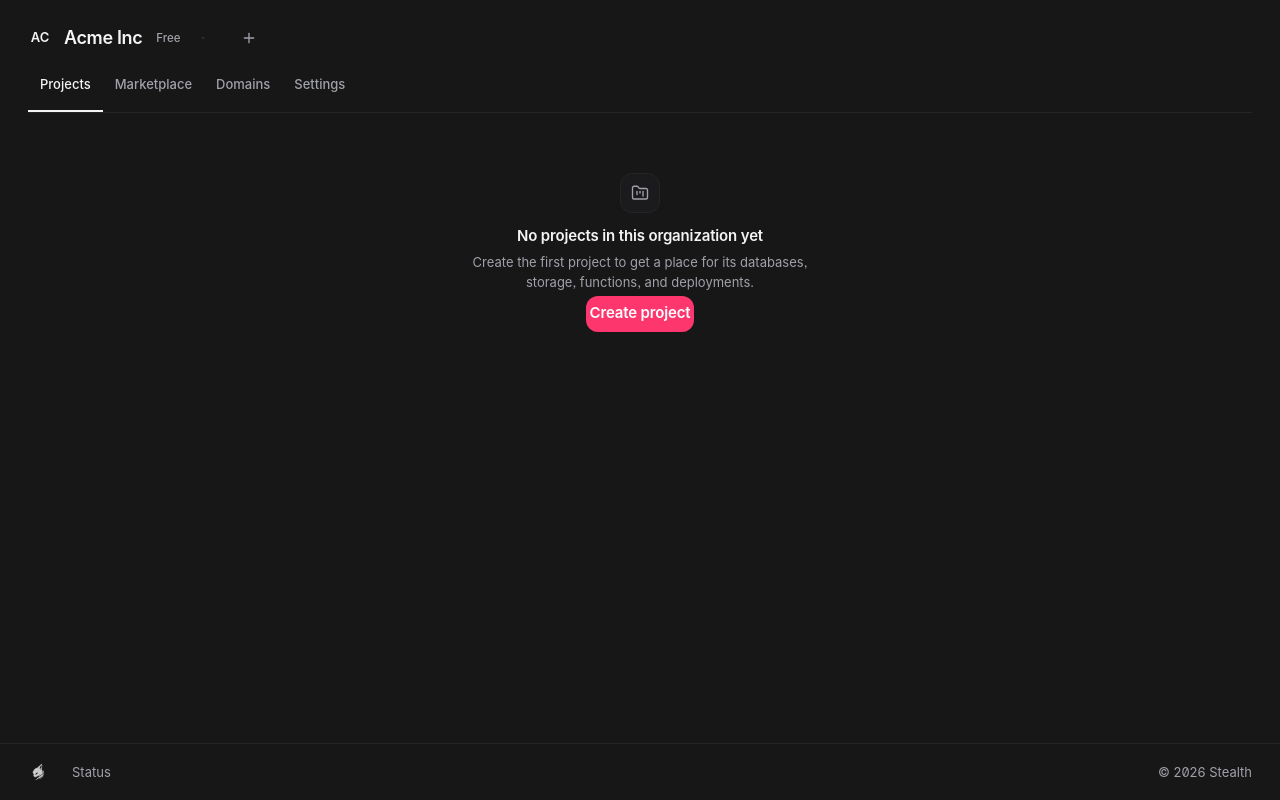
Test: UserHome › opens the create project dialog from the organization row
Click the button named "Create project" at (248, 38), box [236, 26, 260, 50]
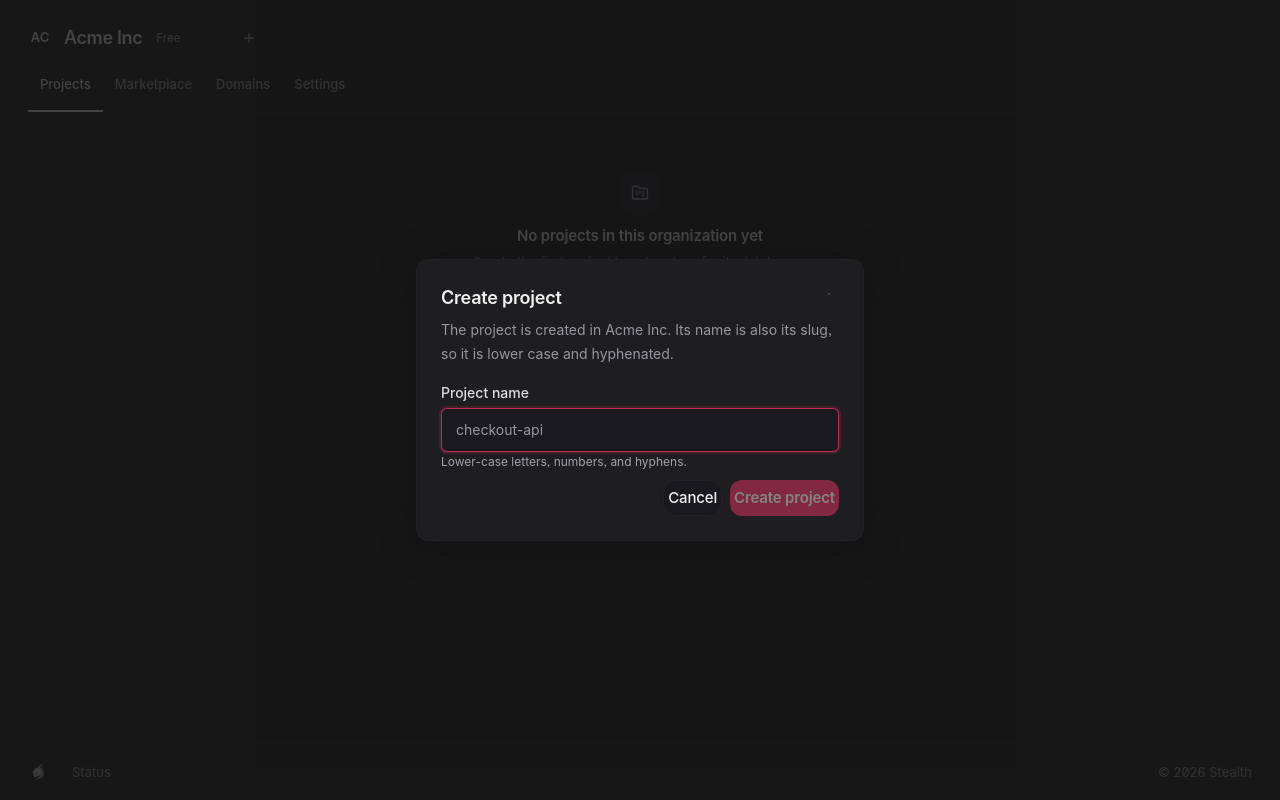
Check: the dialog is shown, box [416, 259, 864, 541]
